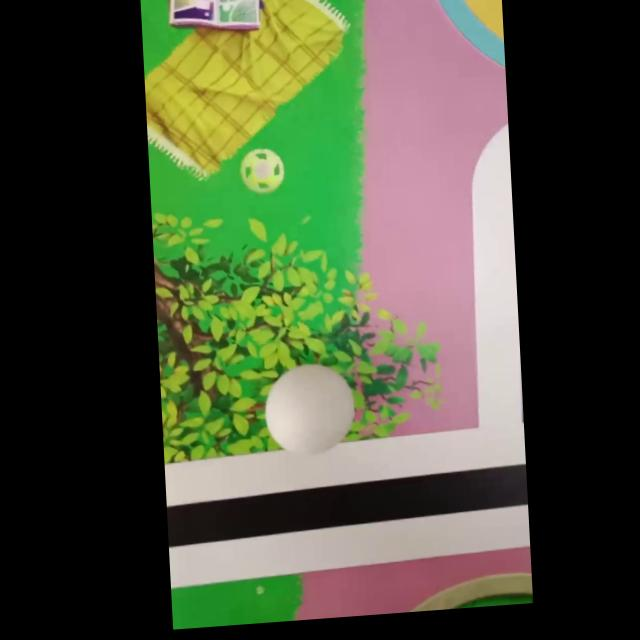white ball: (262, 360, 357, 457)
